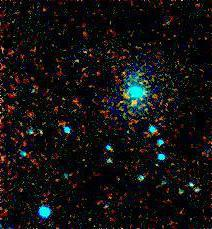star: (120, 87, 150, 117)
